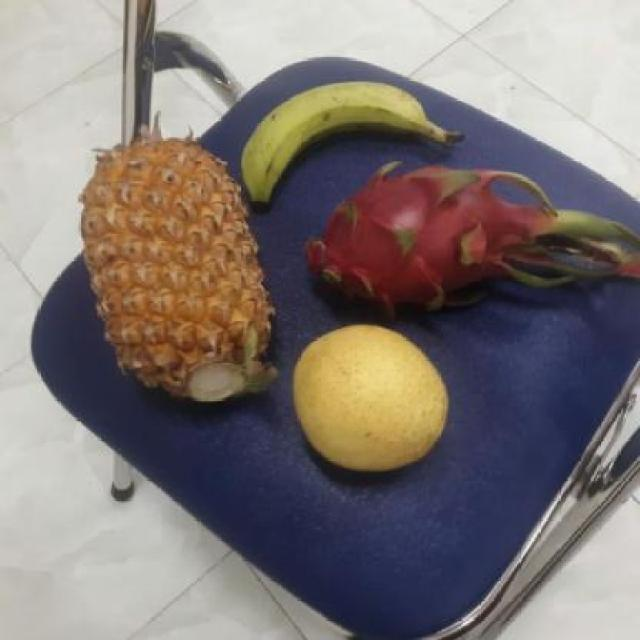banana: (236, 80, 442, 203)
dragon fruit: (292, 162, 533, 322)
pear: (288, 320, 450, 474)
pineapple: (71, 137, 274, 405)
